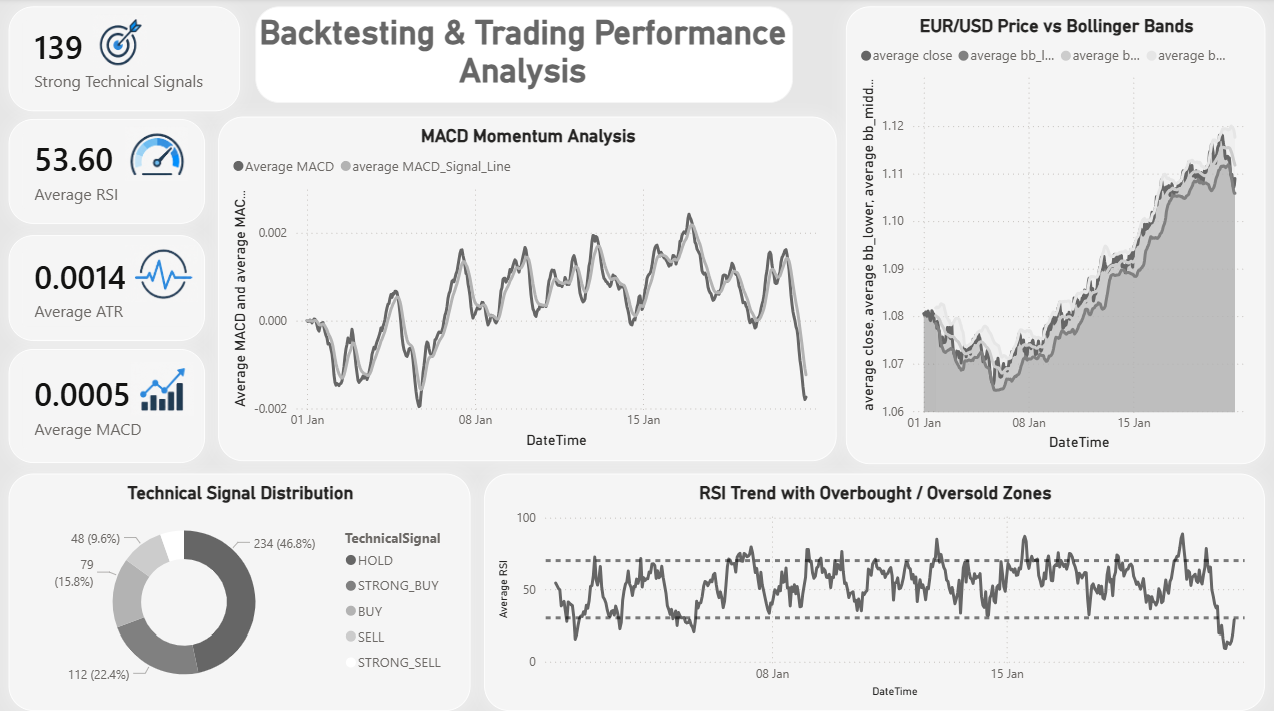

What the dashboard file says about the page in this screenshot:
{"tool":"powerbi","page":{"name":"Backtesting & Trading Performance Analysis","canvas":[1280,720],"ordinal":1},"visuals":[{"type":"cardVisual","fields":{"Data":["forex_powerbi_master.Average RSI"]},"box":[9.4,121.5,197,105],"z":0},{"type":"cardVisual","fields":{"Data":["forex_powerbi_master.Average ATR"]},"box":[9.4,238.2,197,106.1],"z":1000},{"type":"cardVisual","fields":{"Data":["forex_powerbi_master.Average MACD"]},"box":[9.4,352.6,197,114.4],"z":2000},{"type":"cardVisual","fields":{"Data":["forex_powerbi_master.Strong Technical Signals"]},"box":[9.4,8.3,232.3,105],"z":3000},{"type":"lineChart","title":"RSI Trend with Overbought / Oversold Zones","fields":{"Category":["forex_powerbi_master.DateTime"],"Y":["forex_powerbi_master.Average RSI"]},"box":[487.1,476.5,783.1,237.1],"z":4000},{"type":"lineChart","title":"MACD Momentum Analysis","fields":{"Category":["forex_powerbi_master.DateTime"],"Y":["forex_powerbi_master.Average MACD","forex_powerbi_master.average MACD_Signal_Line"]},"box":[219.4,119.1,620.4,345.6],"z":5000},{"type":"lineChart","title":"EUR/USD Price vs Bollinger Bands","fields":{"Category":["forex_powerbi_master.DateTime"],"Y":["forex_powerbi_master.average close","forex_powerbi_master.average bb_lower","forex_powerbi_master.average bb_middle","forex_powerbi_master.average bb_upper"]},"box":[849.2,8.3,421,458.8],"z":6000},{"type":"donutChart","title":"Technical Signal Distribution","fields":{"Category":["forex_powerbi_master.TechnicalSignal"],"Y":["CountNonNull(forex_powerbi_master.TechnicalSignal)"]},"box":[9.4,476.5,463.5,237.1],"z":7000},{"type":"textbox","box":[257.1,8.3,539,96.7],"z":8000},{"type":"image","box":[67.2,16.5,106.1,53.1],"z":9000},{"type":"image","box":[126.2,119.1,63.7,74.3],"z":10000},{"type":"image","box":[126.2,230,73.1,93.2],"z":11000},{"type":"image","box":[132.1,358.5,63.7,67.2],"z":12000}]}

Visuals, with their boxes in screenshot pixels (x1, y1, x2, y2), scaled from the page's 1280x720 canvas onto the 1274x711 screenshot:
cardVisual - forex_powerbi_master.Average RSI: (x1=9, y1=120, x2=205, y2=224)
cardVisual - forex_powerbi_master.Average ATR: (x1=9, y1=235, x2=205, y2=340)
cardVisual - forex_powerbi_master.Average MACD: (x1=9, y1=348, x2=205, y2=461)
cardVisual - forex_powerbi_master.Strong Technical Signals: (x1=9, y1=8, x2=241, y2=112)
"RSI Trend with Overbought / Oversold Zones" lineChart: (x1=485, y1=471, x2=1264, y2=705)
"MACD Momentum Analysis" lineChart: (x1=218, y1=118, x2=836, y2=459)
"EUR/USD Price vs Bollinger Bands" lineChart: (x1=845, y1=8, x2=1264, y2=461)
"Technical Signal Distribution" donutChart: (x1=9, y1=471, x2=471, y2=705)
textbox: (x1=256, y1=8, x2=792, y2=104)
image: (x1=67, y1=16, x2=172, y2=69)
image: (x1=126, y1=118, x2=189, y2=191)
image: (x1=126, y1=227, x2=198, y2=319)
image: (x1=131, y1=354, x2=195, y2=420)
